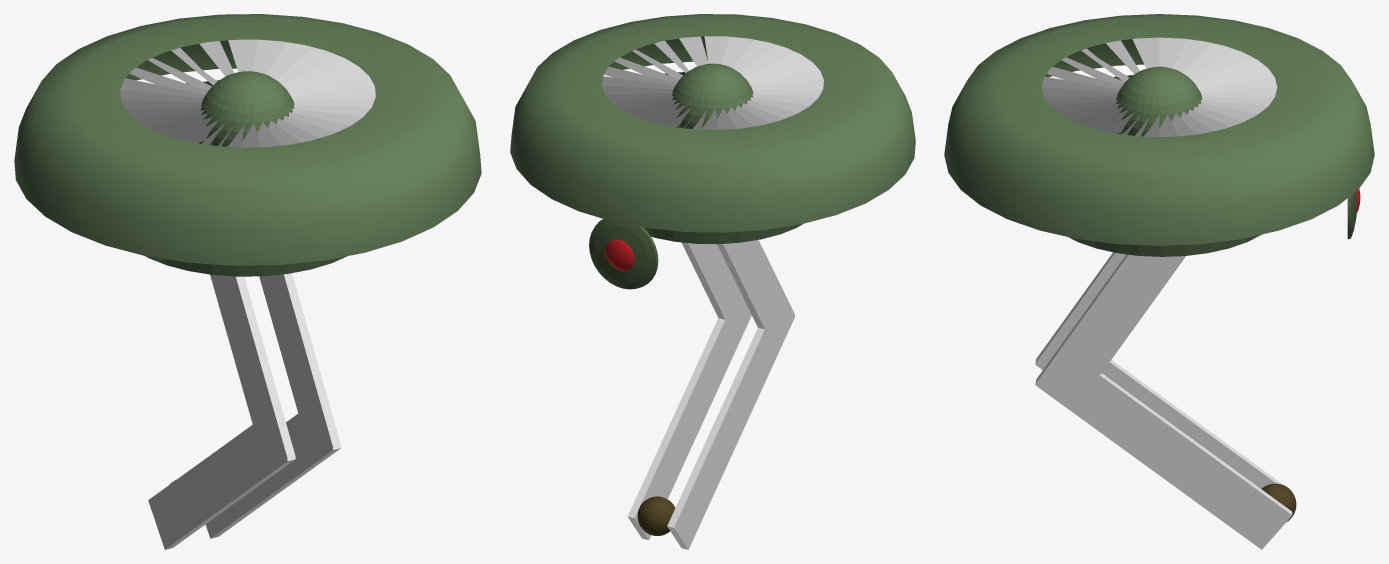
Rendered from drone-v4.fbx.
3 renders of one model, left to right at view 1: azimuth 30°, elevation 25°; view 2: azimuth 150°, elevation 25°; view 3: azimuth 270°, elevation 25°, orthographic. The views are drawn at different scales.
Parts seen in each view (by area): view 1: Sphere, Cube.003, Cube, Cube.001, Cube.002; view 2: Sphere, Cube.003, Cube.002, Cube, Sphere.002, Cube.001, Sphere.001, Sphere.003; view 3: Sphere, Cube.002, Cube.001, Cube.003, Cube, Sphere.001.
Part boxes in pixels (<box>): Sphere: <box>14,14,481,276</box>; Cube.003: <box>148,413,295,549</box>; Cube: <box>210,274,295,458</box>; Cube.001: <box>259,273,340,447</box>; Cube.002: <box>205,411,341,538</box>; Sphere: <box>510,14,915,244</box>; Cube.003: <box>667,295,795,549</box>; Cube.002: <box>627,296,751,540</box>; Cube: <box>717,240,794,351</box>; Sphere.002: <box>589,219,658,289</box>; Cube.001: <box>681,242,748,319</box>; Sphere.001: <box>637,496,675,535</box>; Sphere.003: <box>605,239,634,270</box>; Sphere: <box>944,14,1374,256</box>; Cube.002: <box>1035,373,1292,549</box>; Cube.001: <box>1036,254,1185,407</box>; Cube.003: <box>1035,331,1292,491</box>; Cube: <box>1036,252,1125,363</box>; Sphere.001: <box>1261,483,1296,521</box>.
Bounding box in the file's own units: 942 × 1128 × 942.
